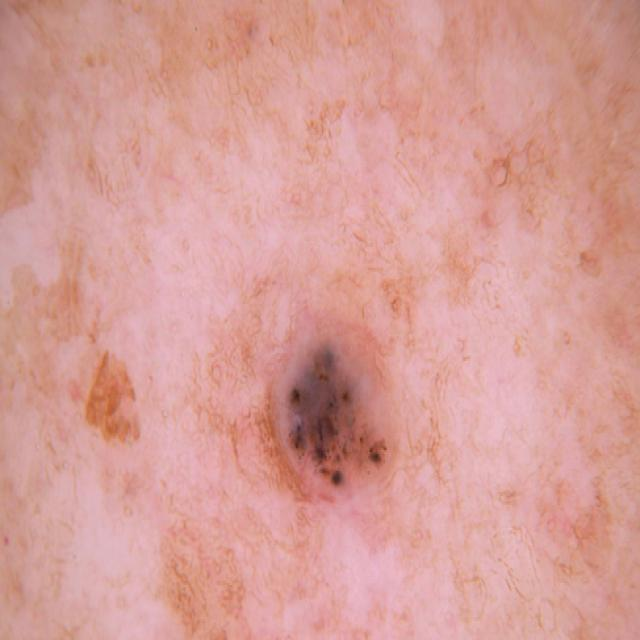Carcinoma: (226, 302, 463, 543), (69, 331, 177, 501)
